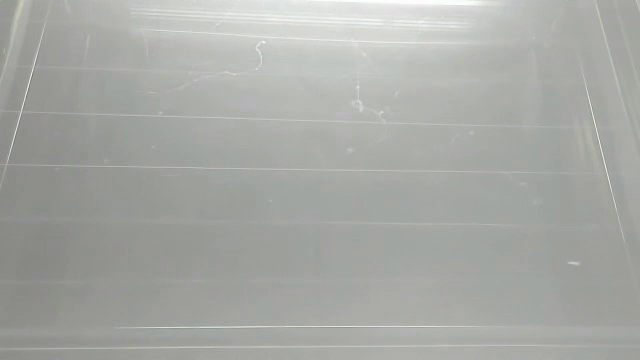alpha: (564, 256, 584, 271)
